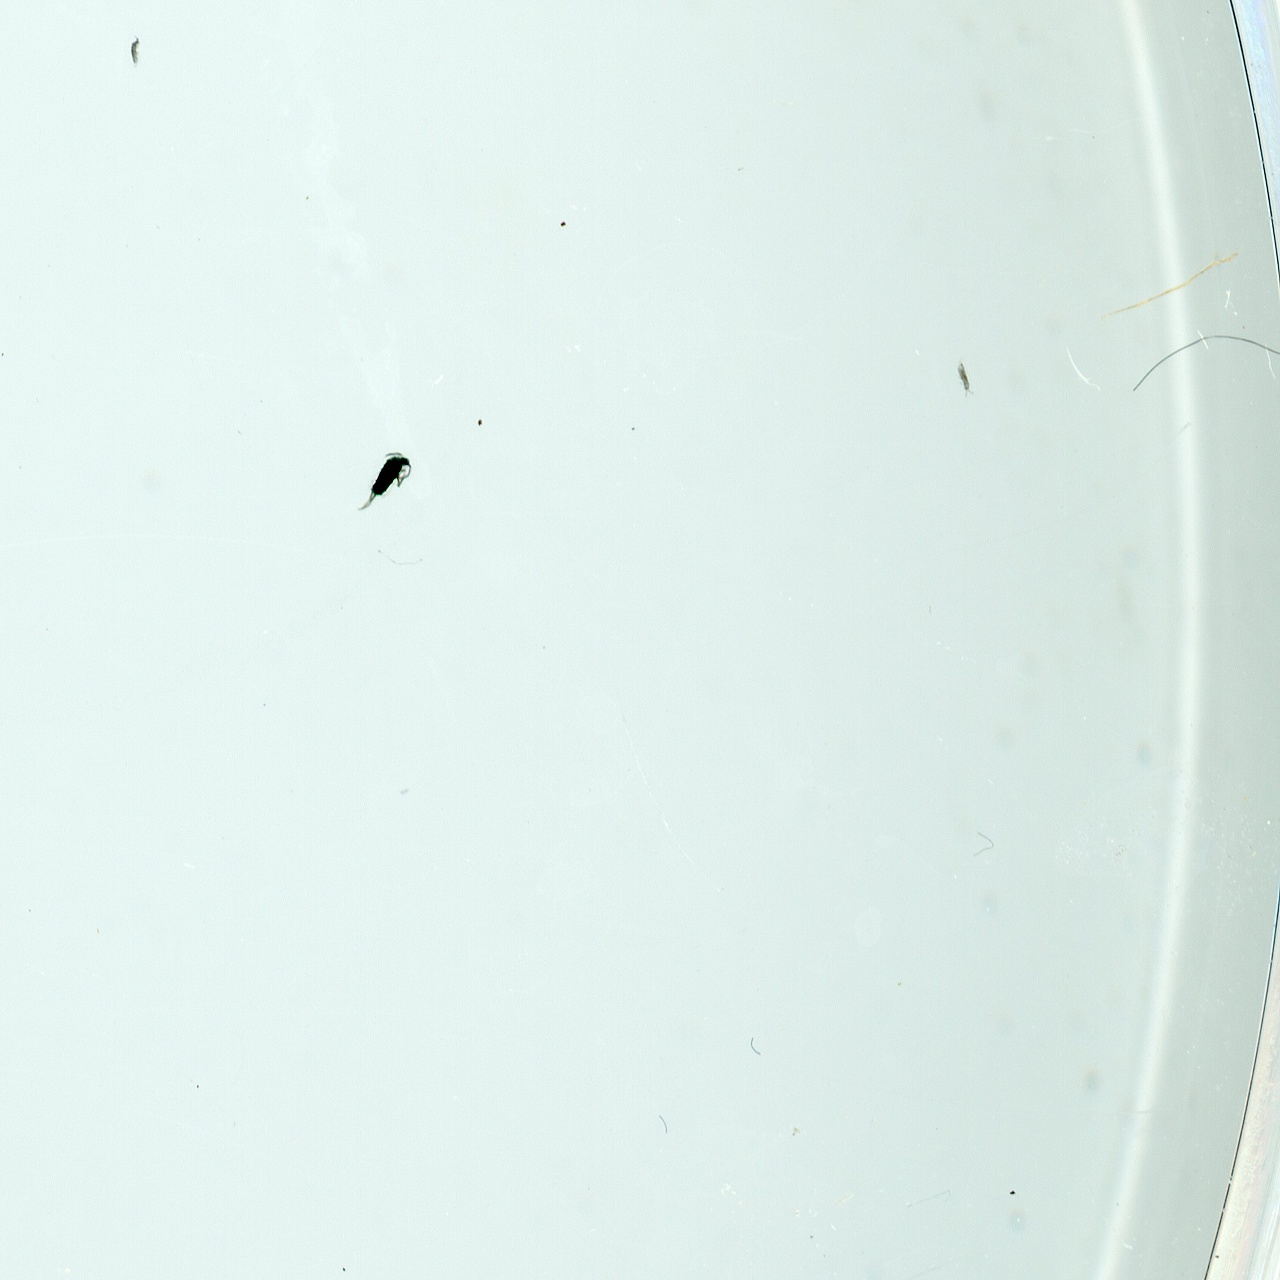arthropod: (351, 439, 420, 528), (948, 347, 982, 405), (128, 26, 144, 79)
